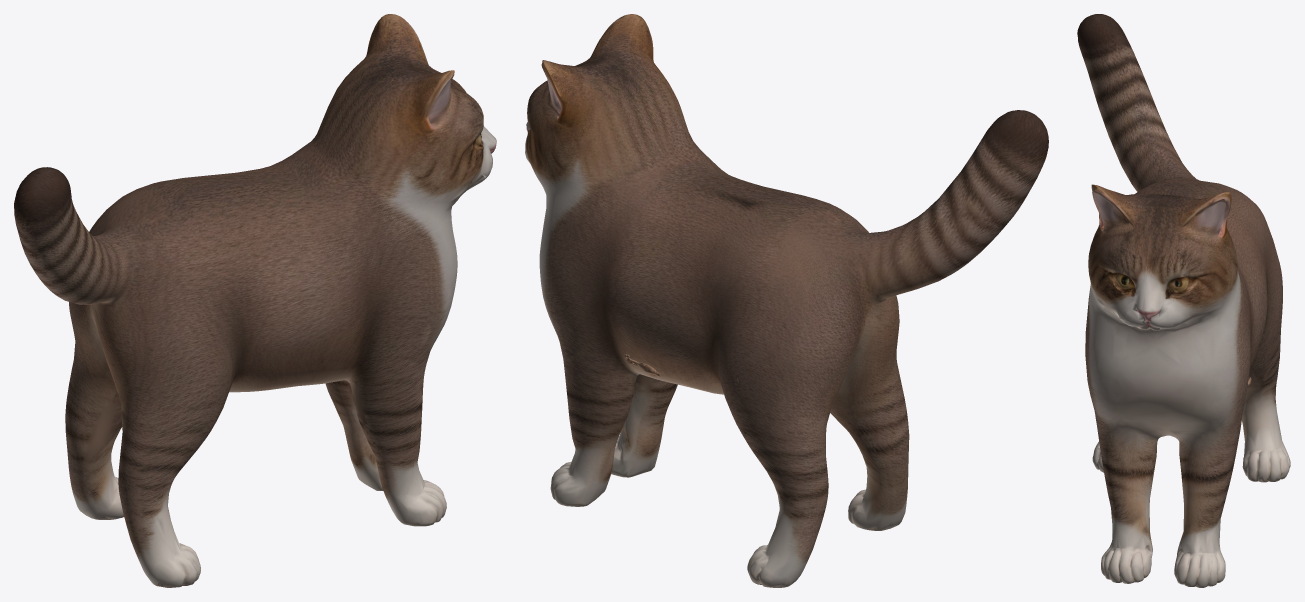
File: MARUBOX.glb
3 views of the same model, side by side, from view 1: azimuth 30°, elevation 25°; view 2: azimuth 150°, elevation 25°; view 3: azimuth 270°, elevation 25° (orthographic). The views are drawn at different scales.
Parts seen in each view (by area): view 1: material; view 2: material; view 3: material.
Boxes of the visible parts, x1,y1,x2,y2 form: material: (14,14,496,587); material: (525,14,1048,587); material: (1077,14,1290,587).
Bounding box in the file's own units: 1.17 × 0.9996 × 0.4884.
Materials: 1 (1 with a texture image).
